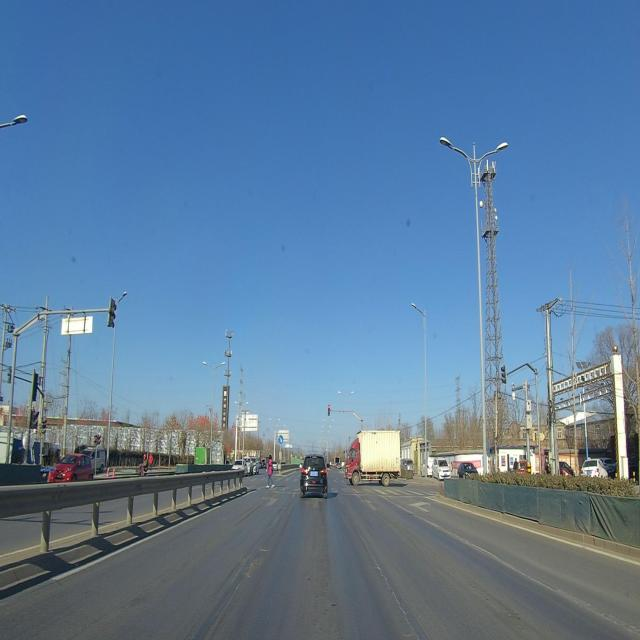Traffic Light -Off-: (501, 366, 507, 384)
Traffic Light -Red-: (327, 404, 331, 416)
